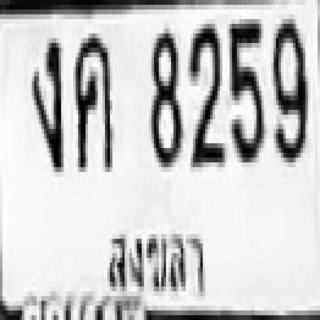A04: (73, 31, 110, 170)
A07: (29, 33, 61, 167)
N02: (188, 19, 222, 162)
N05: (227, 19, 261, 158)
N08: (149, 29, 181, 162)
N09: (271, 14, 305, 158)
P64: (99, 217, 210, 305)
